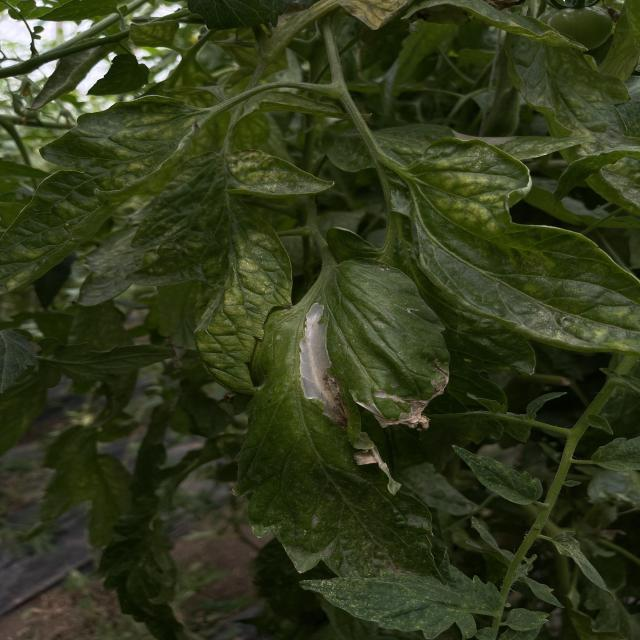Tuta absoluta: (357, 355, 469, 449), (282, 301, 355, 434)
